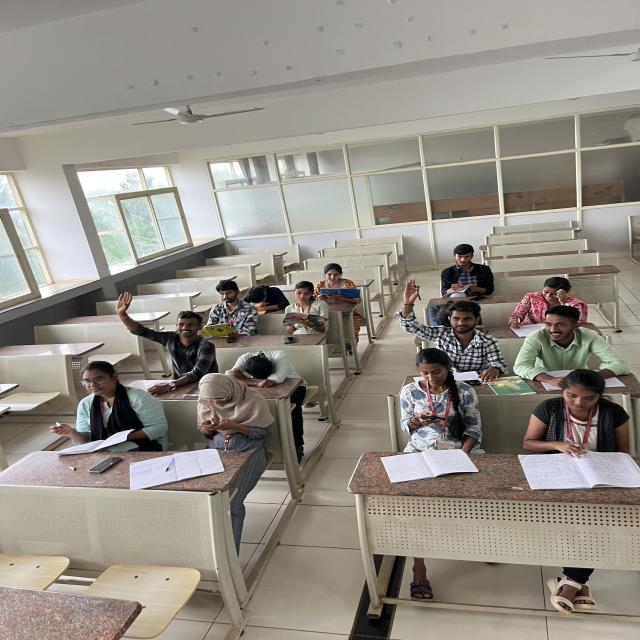Hand Rising: (110, 291, 208, 376), (379, 274, 496, 341)
Reading: (508, 367, 640, 489), (46, 350, 165, 448), (197, 277, 250, 337), (278, 282, 329, 333), (312, 262, 368, 308)
Sleeping: (226, 346, 298, 388), (240, 284, 288, 311)
Using Phone: (381, 343, 489, 450), (175, 364, 275, 448)
Writing: (504, 268, 586, 333)
